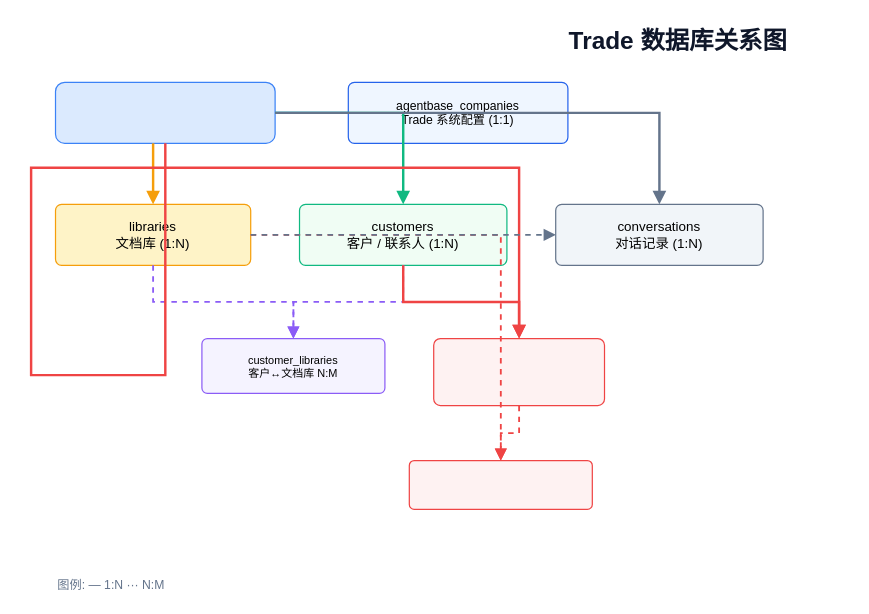
This 869x614 diagram has some shape labels left out. The centre of each missing label's shape, as x and y in pixels:
"companies 公司（租户根实体）" belongs at point 164,112.
"order_libraries 订单↔文档库 N:M" belongs at point 500,484.
"orders 订单 (1:N)" belongs at point 518,371.
